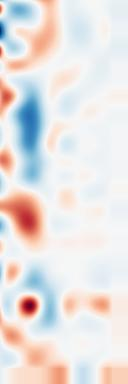filament: (4, 190, 54, 257)
